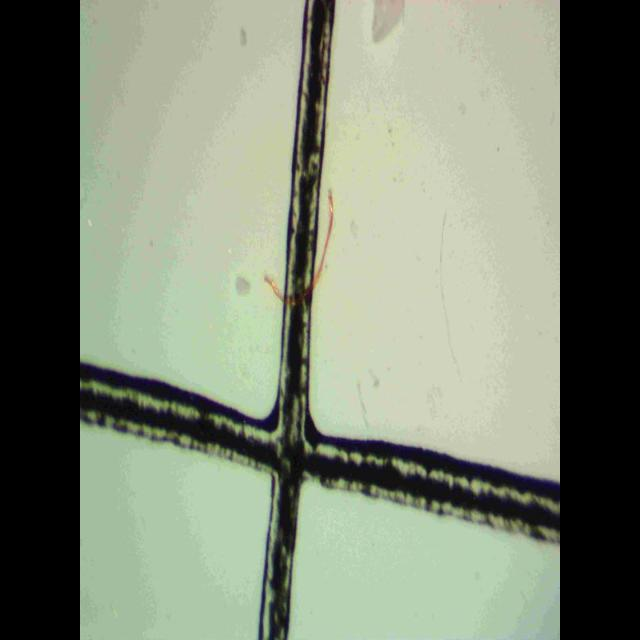Fibre: (81, 0, 559, 638), (262, 182, 340, 314)
